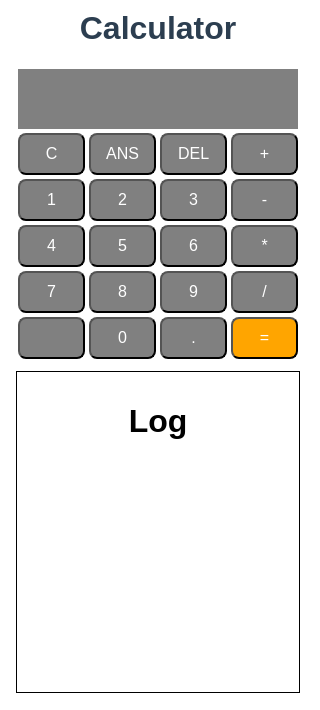
Test: Calculator.vue › display 3 when 1, +, 2, and = buttons are pushed
Step 1. Click the button "1" → (52, 200), box [18, 179, 85, 221]
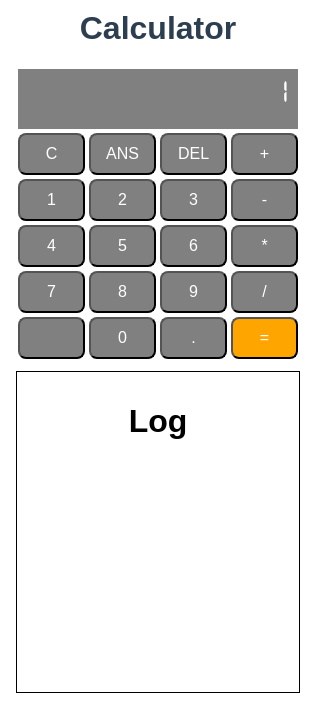
Step 2. Click the button "+" → (264, 154), box [231, 133, 298, 175]
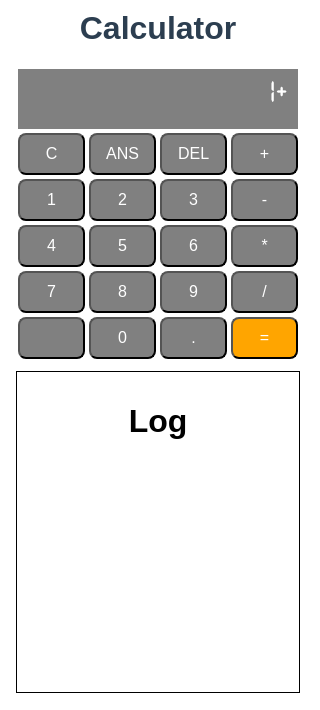
Step 3. Click the button "2" → (122, 200), box [89, 179, 156, 221]
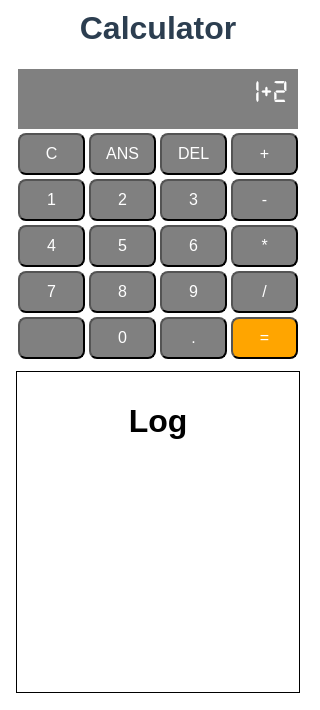
Step 4. Click the button "=" → (264, 338), box [231, 317, 298, 359]
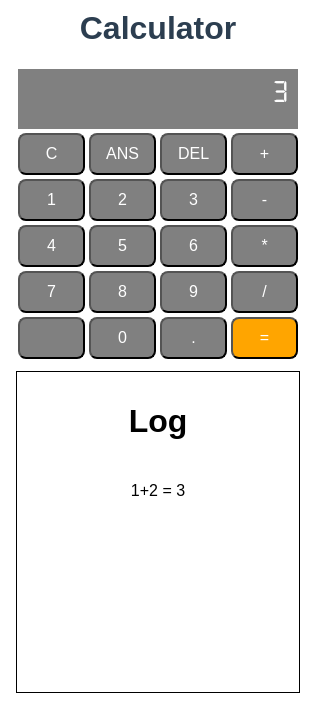
Expected: the text "3" is shown, [18, 69, 298, 129]
